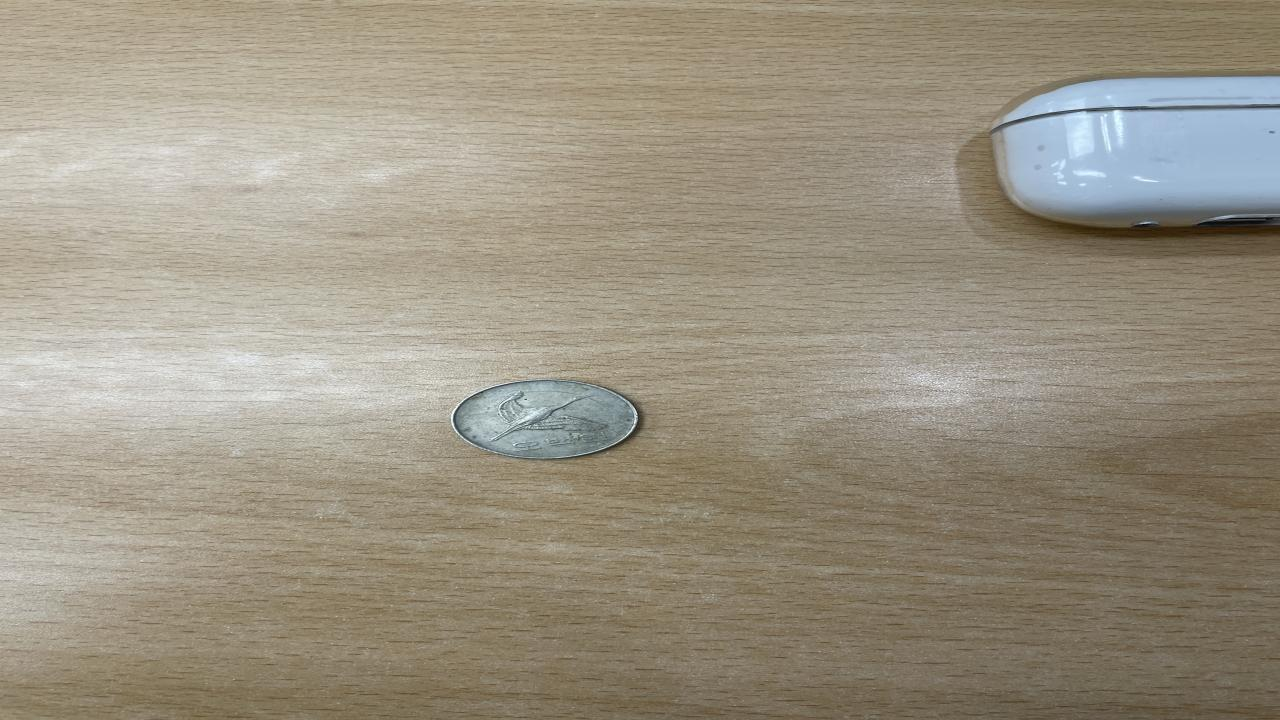coin: (448, 379, 640, 459)
